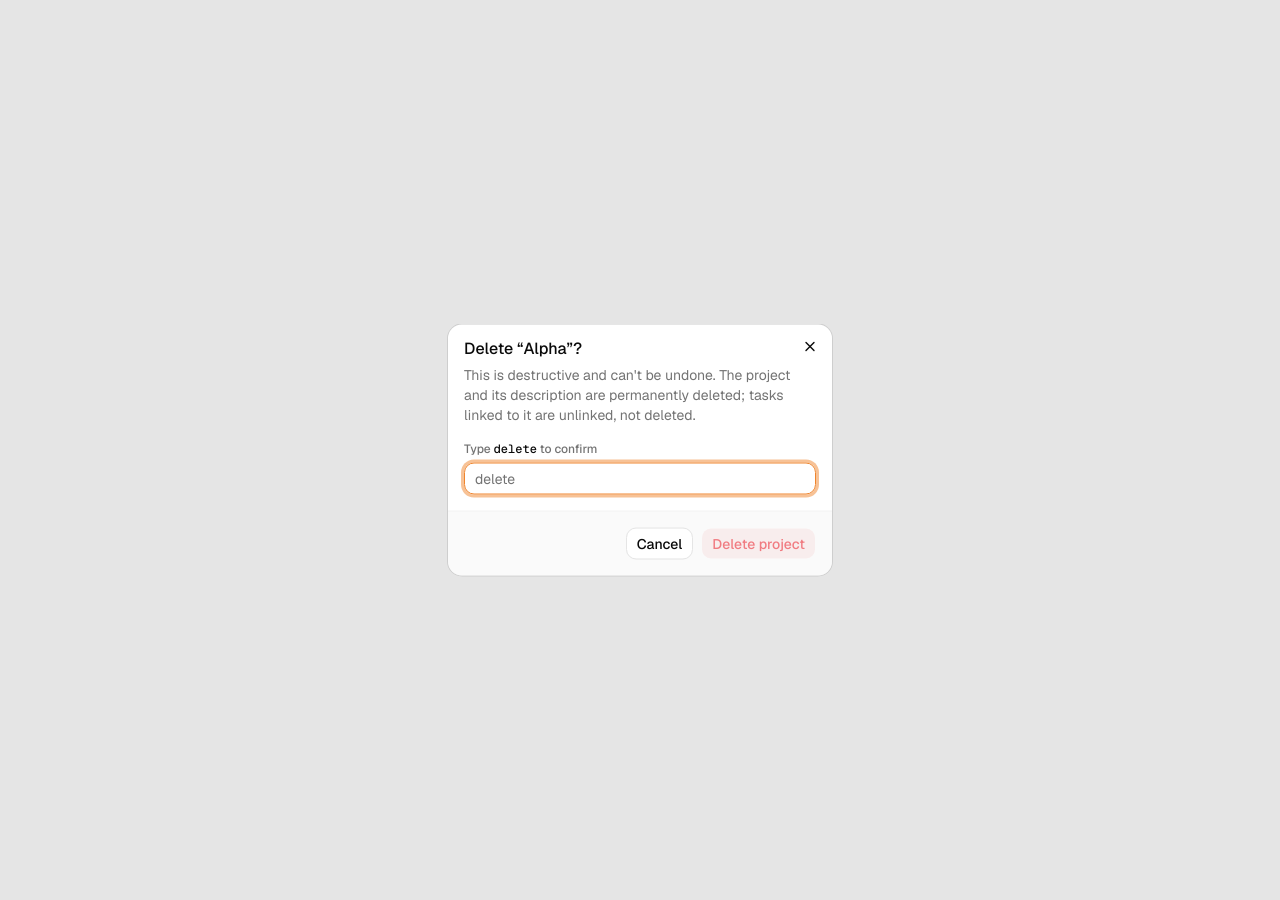
Scenario: keeps the delete button disabled until the confirm word is typed
Expected: the button "Delete project" is disabled, [701,528,816,560]
Type "nope" into the field labelled "Type delete to confirm" at (640,478), box [464,462,816,494]
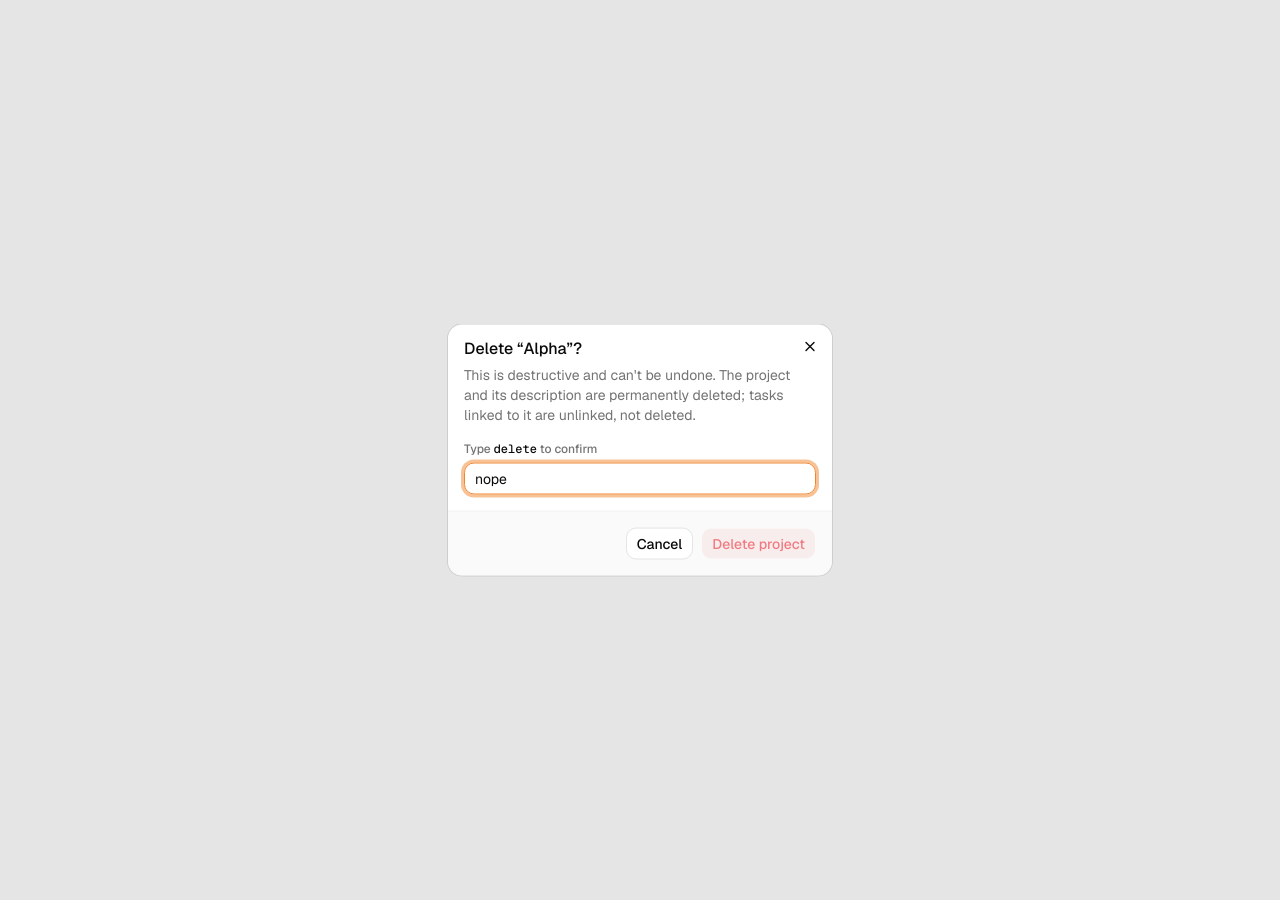
Expected: the button "Delete project" is disabled, [701,528,816,560]
Replace the text in the field labelled "Type delete to confirm" with "delete" at (640,478), box [464,462,816,494]
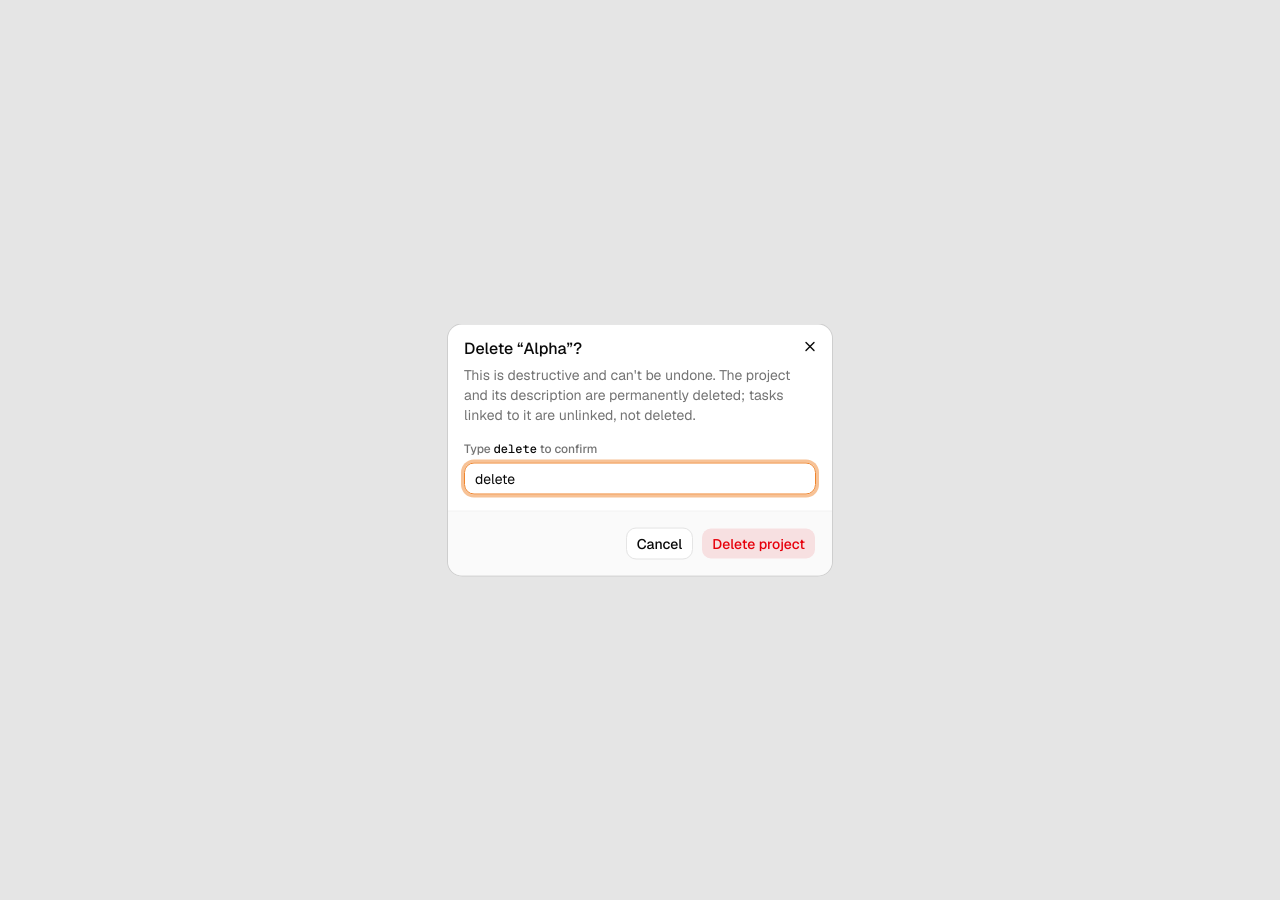
Expected: the button "Delete project" is enabled, [701,528,816,560]
